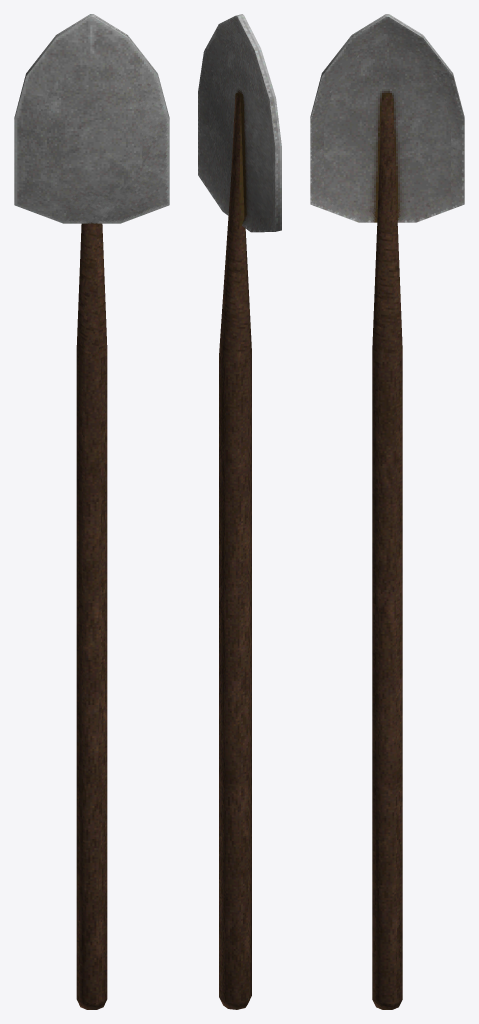
The model's file is shovel.glb.
The picture shows the model from 3 angles, left to right: view 1: azimuth 90°, elevation 25°; view 2: azimuth 210°, elevation 25°; view 3: azimuth 270°, elevation 25°; orthographic projection.
Parts seen in each view (by area): view 1: Shovel; view 2: Shovel; view 3: Shovel.
Part boxes in pixels (x1,y1,x2,y2): Shovel: (14, 14, 169, 1009); Shovel: (198, 14, 281, 1009); Shovel: (310, 14, 464, 1009).
Bounding box in the file's own units: 0.0736 × 2.55 × 0.3615.
Materials: 1 (1 with a texture image).
